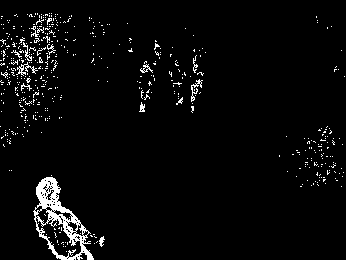person: (29, 176, 105, 259), (167, 59, 187, 106), (138, 61, 156, 112)
